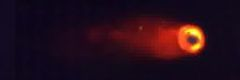keyhole: (185, 31, 201, 47)
